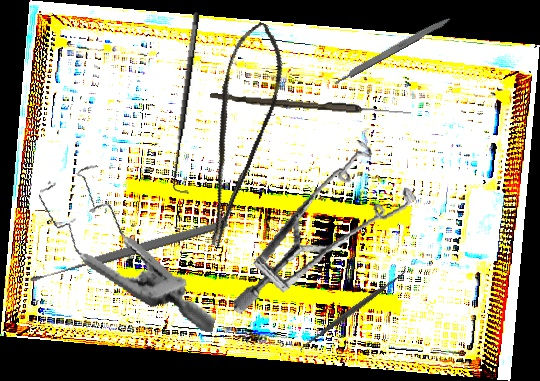Hook Surgical: (166, 11, 214, 197)
Micro Scissor: (168, 16, 301, 250)
Scalpel Handle: (331, 12, 455, 87)
Spatula Surgical: (294, 263, 413, 356)
Speculum: (18, 154, 242, 334), (211, 132, 430, 316)
Surgical Spoon: (28, 216, 230, 286), (209, 93, 412, 117)
